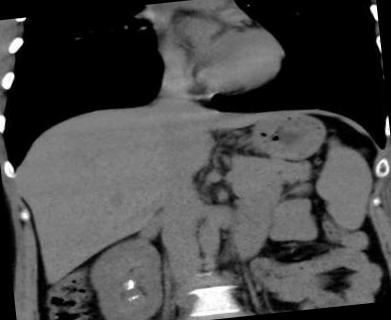Tas_Var: (124, 282, 136, 290), (130, 296, 136, 300), (134, 294, 138, 298), (128, 279, 131, 282), (128, 298, 131, 300)
